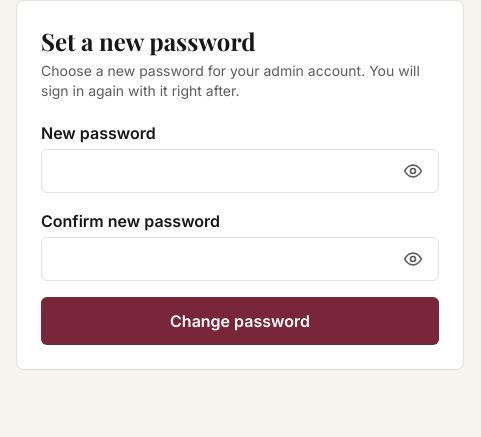
ResetPasswordForm › shows the plain-words error when the action fails
In the password field labelled "New password": (240,171) top-left (41, 149), bottom-right (439, 193), type "abc"
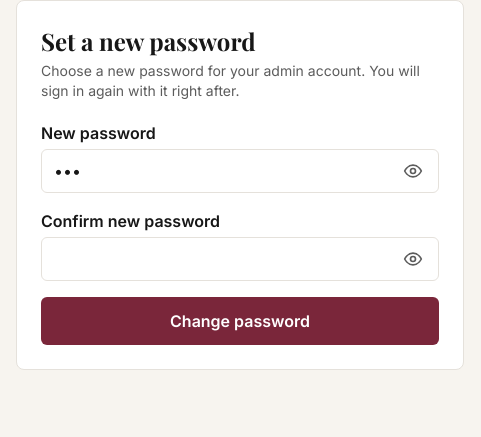
In the password field labelled "Confirm new password": (240,259) top-left (41, 237), bottom-right (439, 281), type "abc"
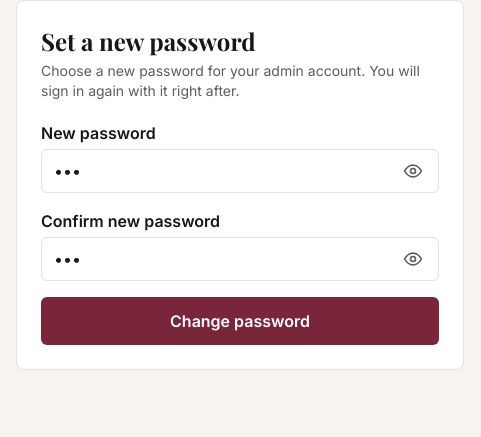
Click the button "Change password": (240,321) top-left (41, 297), bottom-right (439, 345)
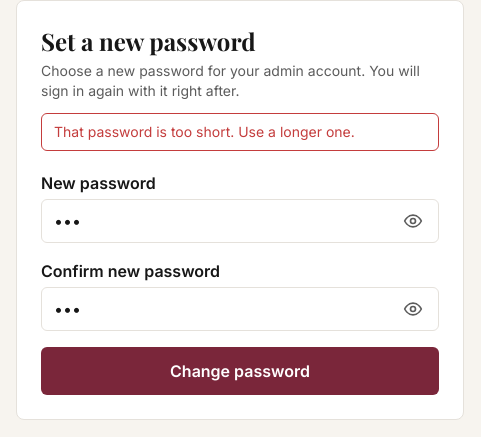
Result: the text "That password is too short. Use a longer one." is shown at top-left (41, 113), bottom-right (439, 151)
